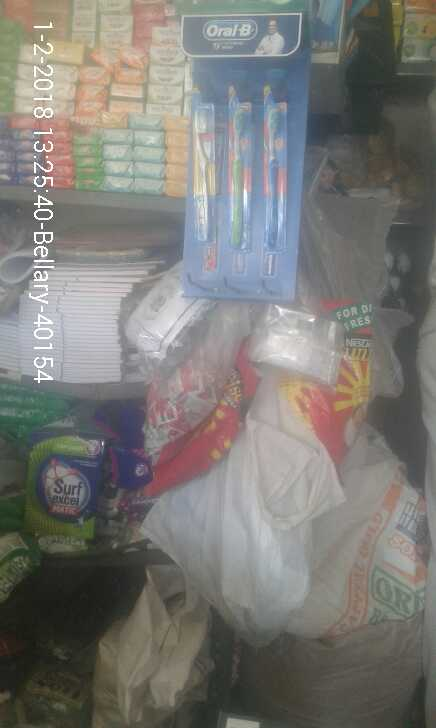oralb: (260, 98, 293, 253), (188, 93, 215, 249), (227, 94, 247, 254)
